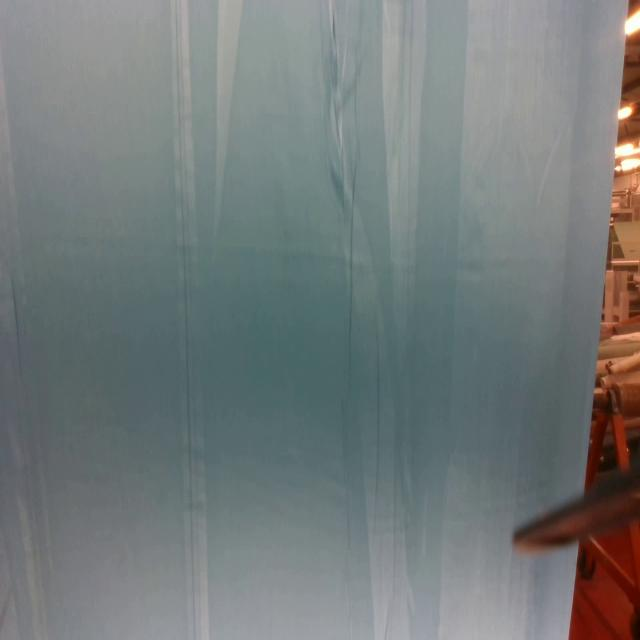crease: (324, 0, 428, 640), (170, 0, 208, 640), (212, 0, 244, 233), (12, 272, 25, 379)
